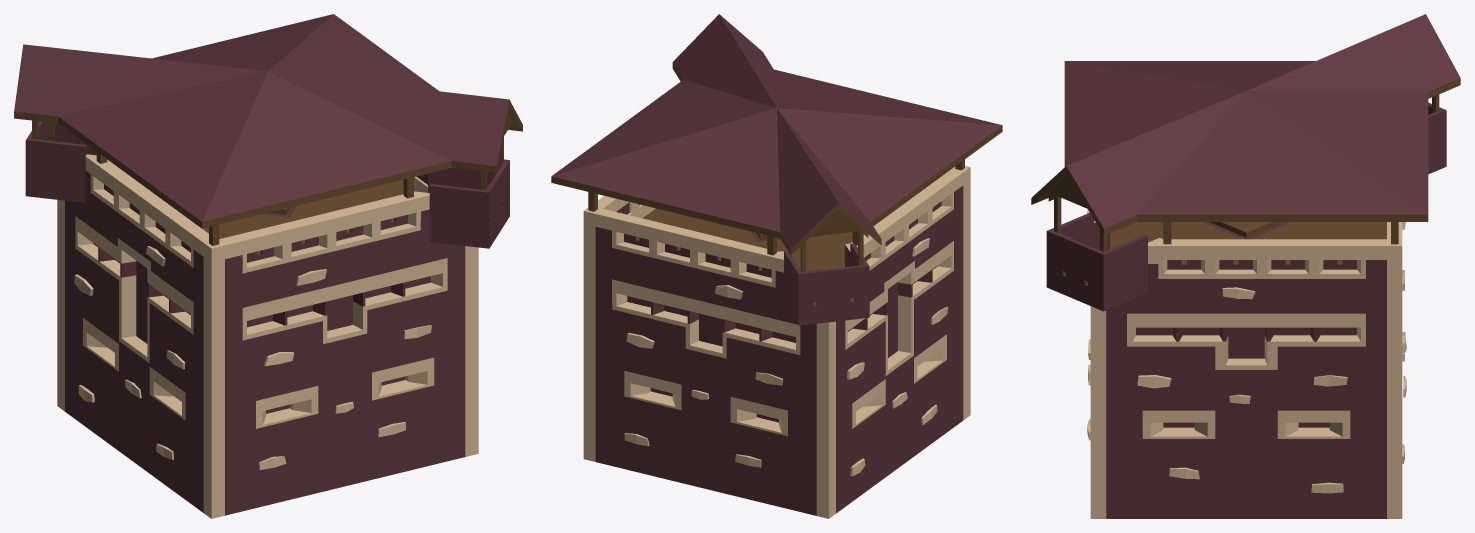
File: zulu-blockhouse-general-major.glb
The picture shows the model from 3 angles, left to right: view 1: azimuth 30°, elevation 25°; view 2: azimuth 150°, elevation 25°; view 3: azimuth 270°, elevation 25°; orthographic projection. The views are drawn at different scales.
Parts seen in each view (by area): view 1: blockhouse-general-major; view 2: blockhouse-general-major; view 3: blockhouse-general-major.
Part boxes in pixels (x1=…): blockhouse-general-major: x1=14, y1=14, x2=522, y2=518; blockhouse-general-major: x1=551, y1=14, x2=1002, y2=518; blockhouse-general-major: x1=1031, y1=14, x2=1460, y2=518.
Size of the model in its own units: 8.27 by 7.69 by 8.27.
